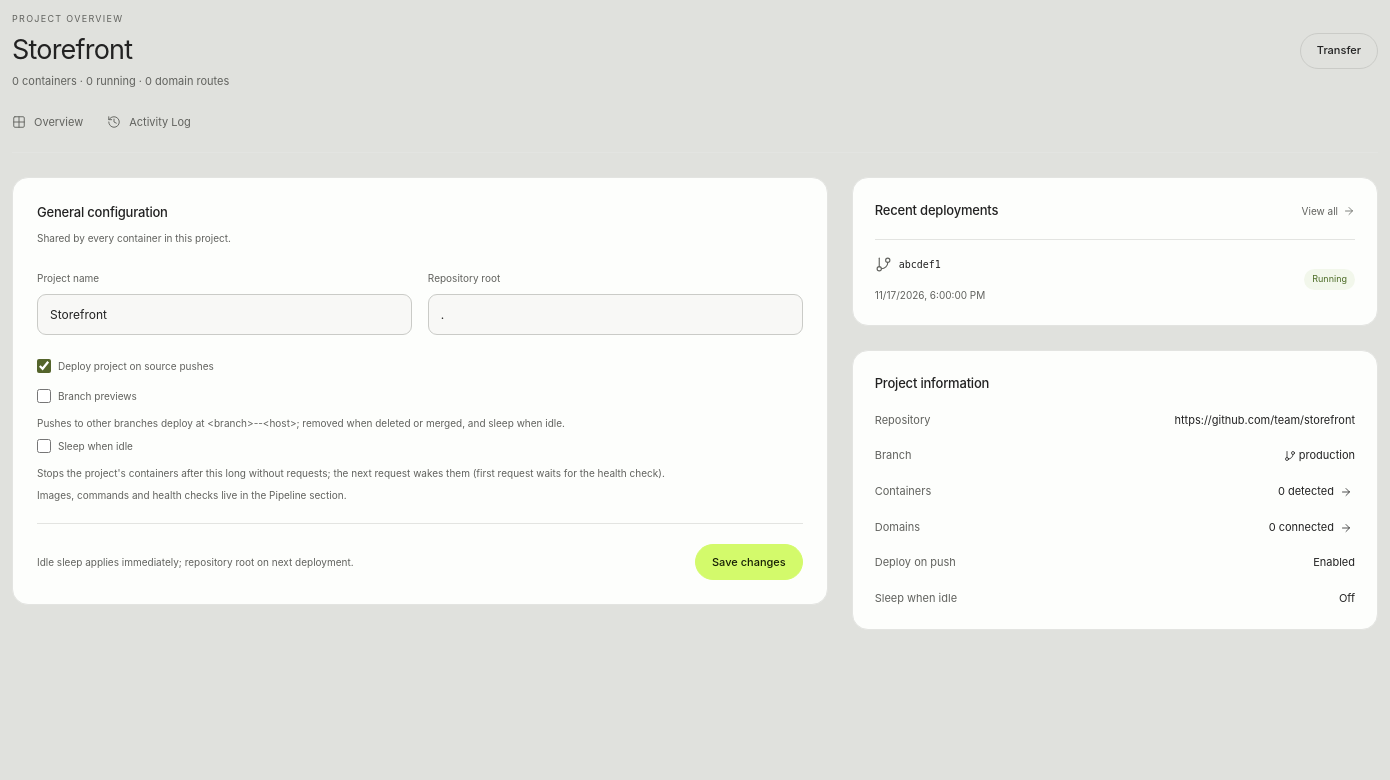
Scenario: project overview › saves enabled idle sleep in minutes, defaulting to 15
Later steps or results of the test are not shown.
Click the checkbox labelled "Sleep when idle": (44, 446) [37,439,51,453]
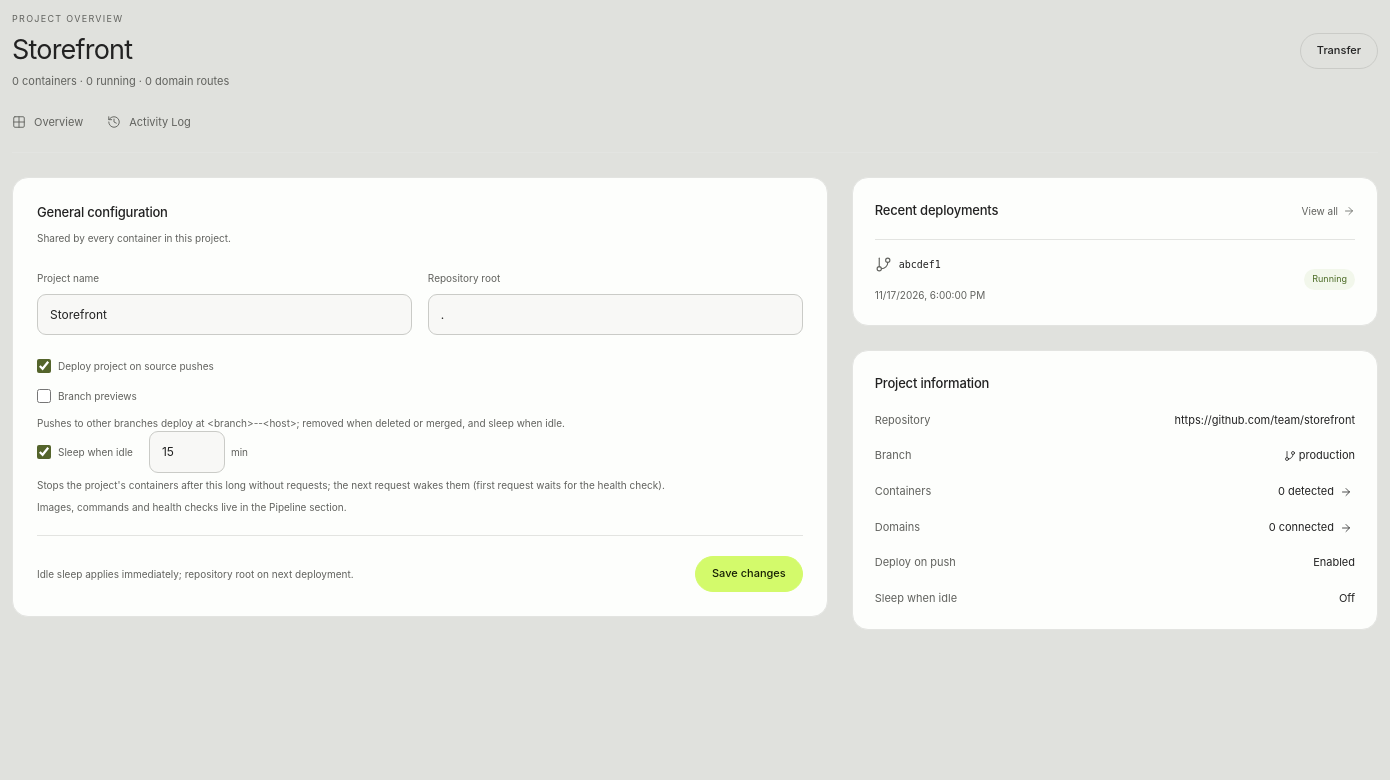
Result: the number field named "Idle minutes" holds "15" at [149,431,225,473]
